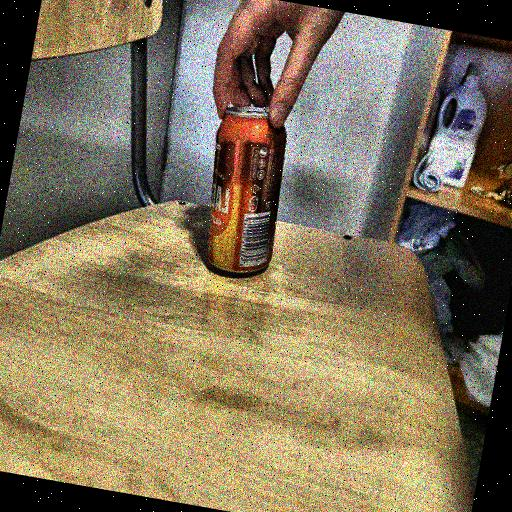coop_larger: (189, 98, 296, 280)
